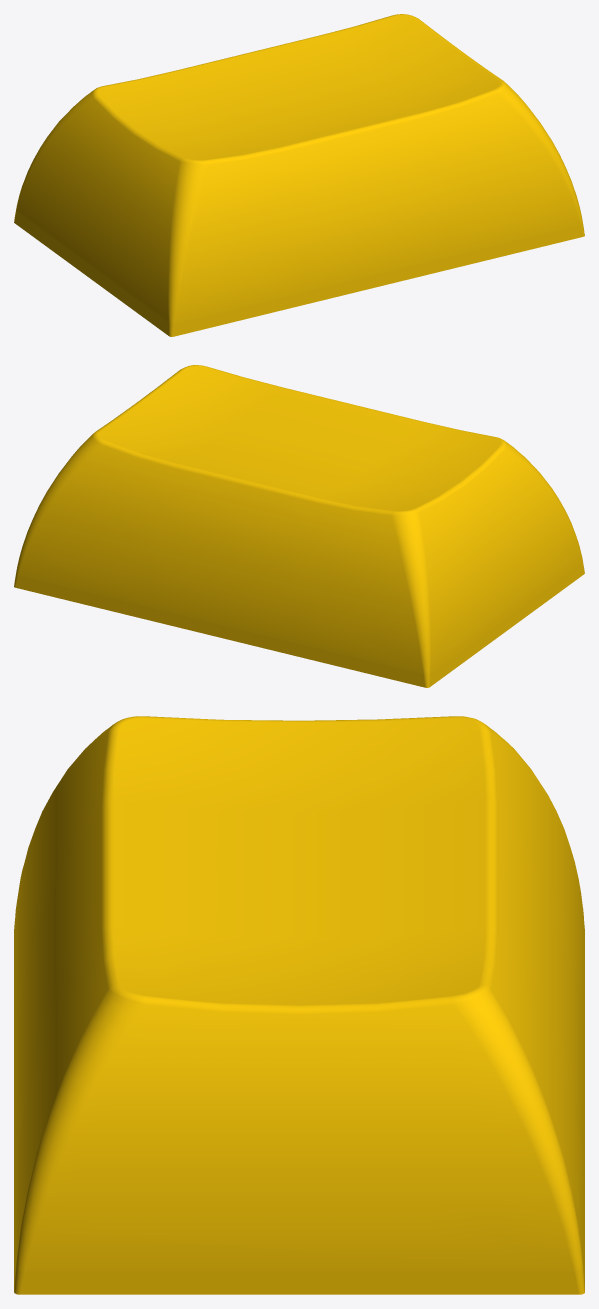
The picture shows the model from 3 angles, top to bottom: view 1: azimuth 30°, elevation 25°; view 2: azimuth 150°, elevation 25°; view 3: azimuth 270°, elevation 25°; orthographic projection. The views are drawn at different scales.
Visible parts, largest first — view 1: Body106; view 2: Body106; view 3: Body106.
Boxes of the visible parts, box(x1,y1,x2,y2) form: Body106: box(14, 14, 584, 336); Body106: box(14, 365, 584, 687); Body106: box(14, 716, 584, 1294).
Bounding box in the file's own units: 27.81 × 9.05 × 18.31.
